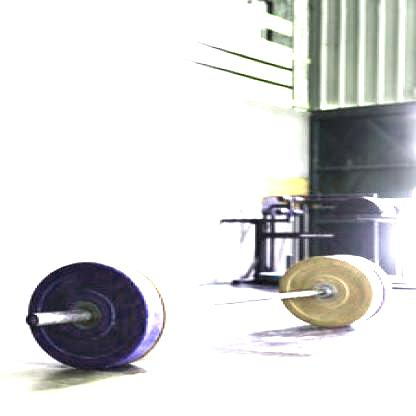Barbell: (13, 309, 52, 332)
